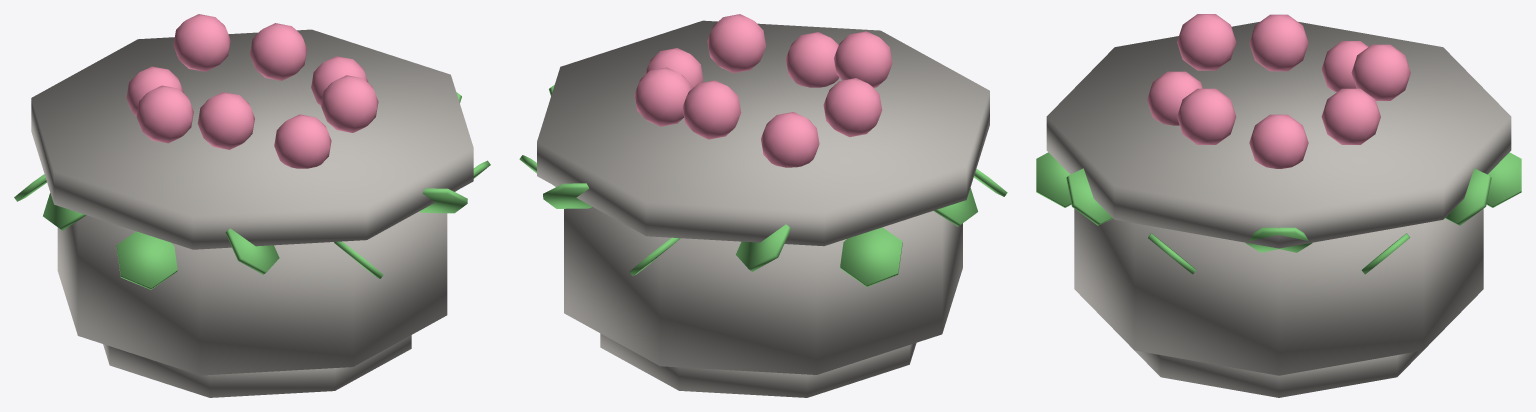
File: StonePlanter_BloomingFlora.glb
The picture shows the model from 3 angles, left to right: view 1: azimuth 30°, elevation 25°; view 2: azimuth 150°, elevation 25°; view 3: azimuth 270°, elevation 25°; orthographic projection. The views are drawn at different scales.
Parts seen in each view (by area): view 1: StonePlanter_BloomingFlora; view 2: StonePlanter_BloomingFlora; view 3: StonePlanter_BloomingFlora.
Part boxes in pixels (left/top/right/bottom): StonePlanter_BloomingFlora: left=14, top=14, right=490, bottom=397; StonePlanter_BloomingFlora: left=519, top=14, right=1007, bottom=397; StonePlanter_BloomingFlora: left=1036, top=14, right=1521, bottom=397.
Size of the model in its own units: 2.54 by 1.67 by 2.61.
